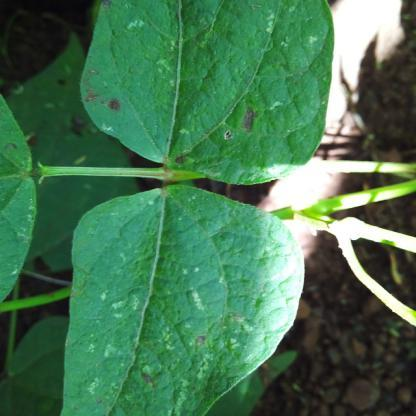Beans_Angular_LeafSpot: (75, 188, 300, 412), (76, 1, 338, 171)
